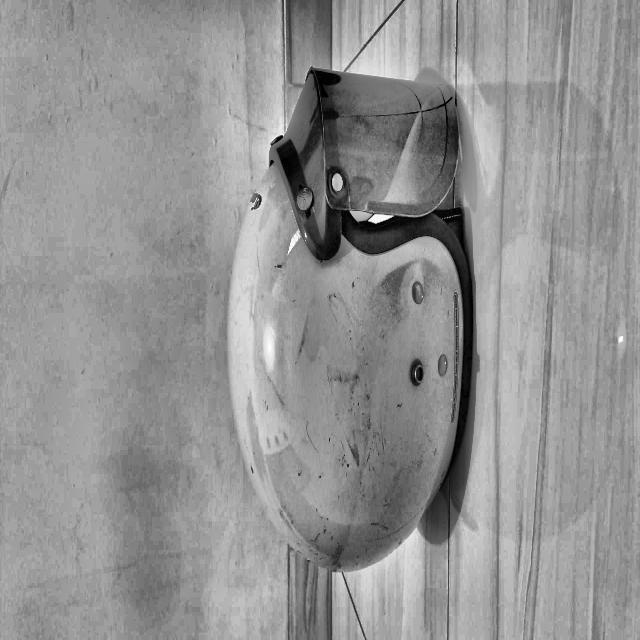Helmet: (31, 393, 340, 640)
